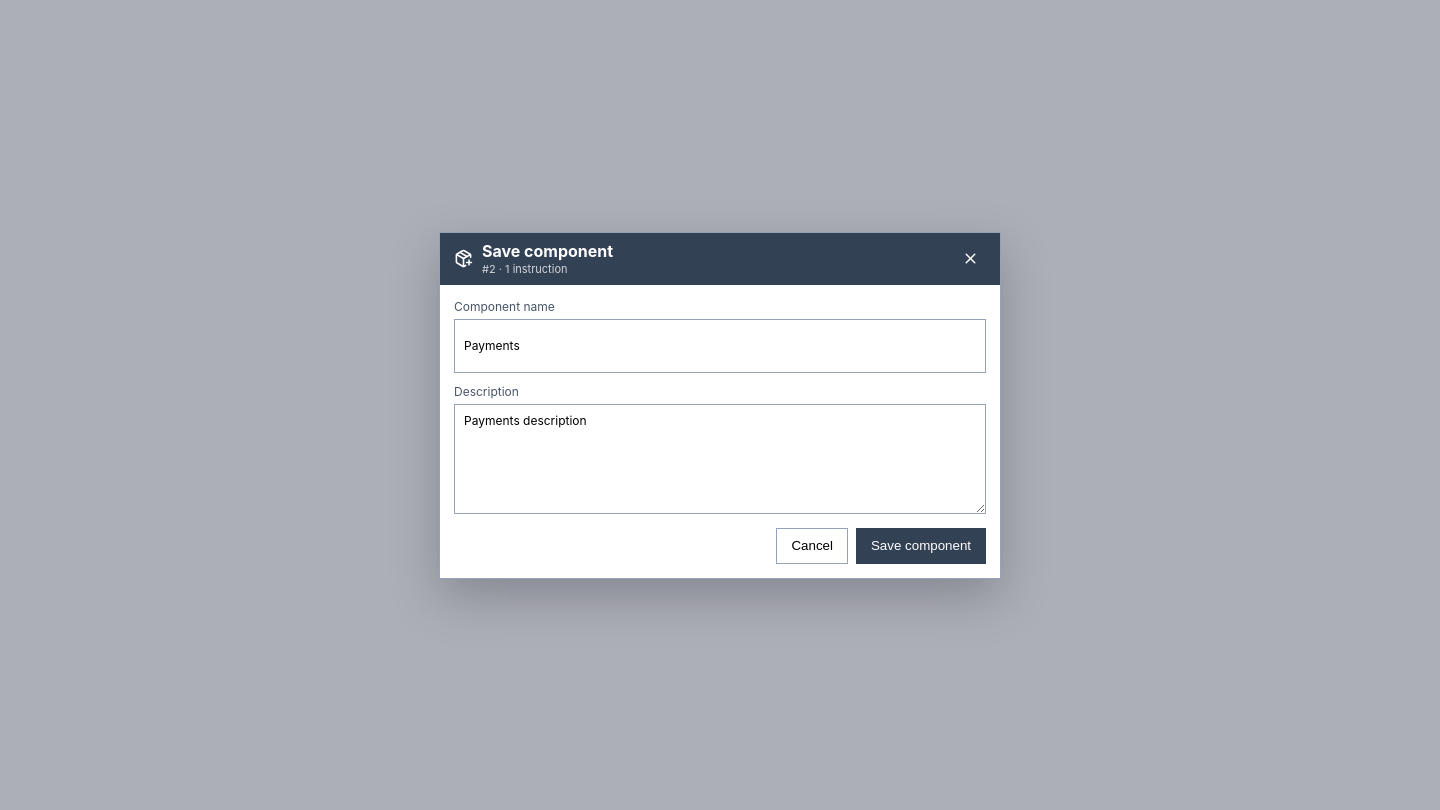
Scenario: requires name and description
Clear the field labelled "Component name": (720, 346) [454, 318, 986, 372]
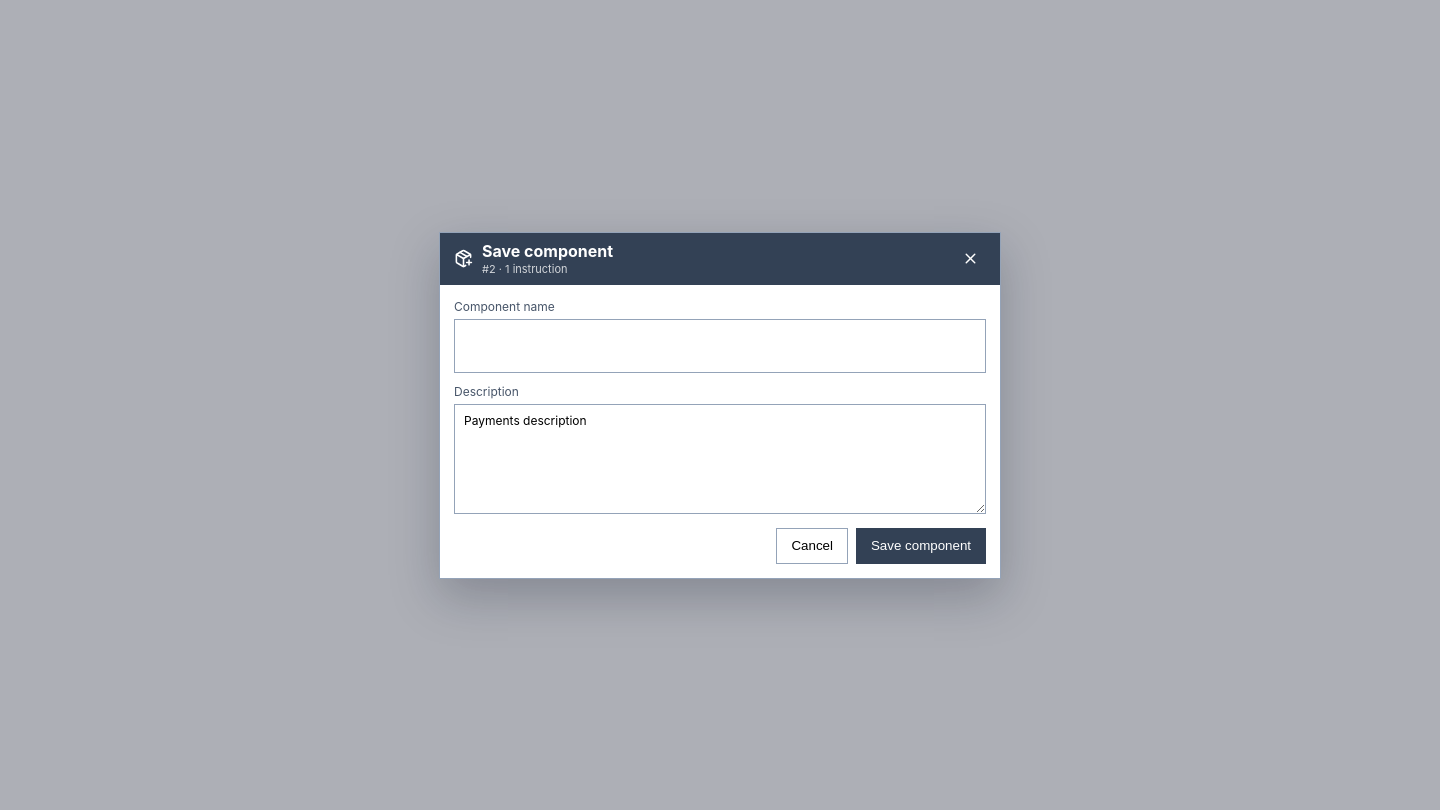
Click the button "Save component": (921, 546) [856, 528, 986, 564]
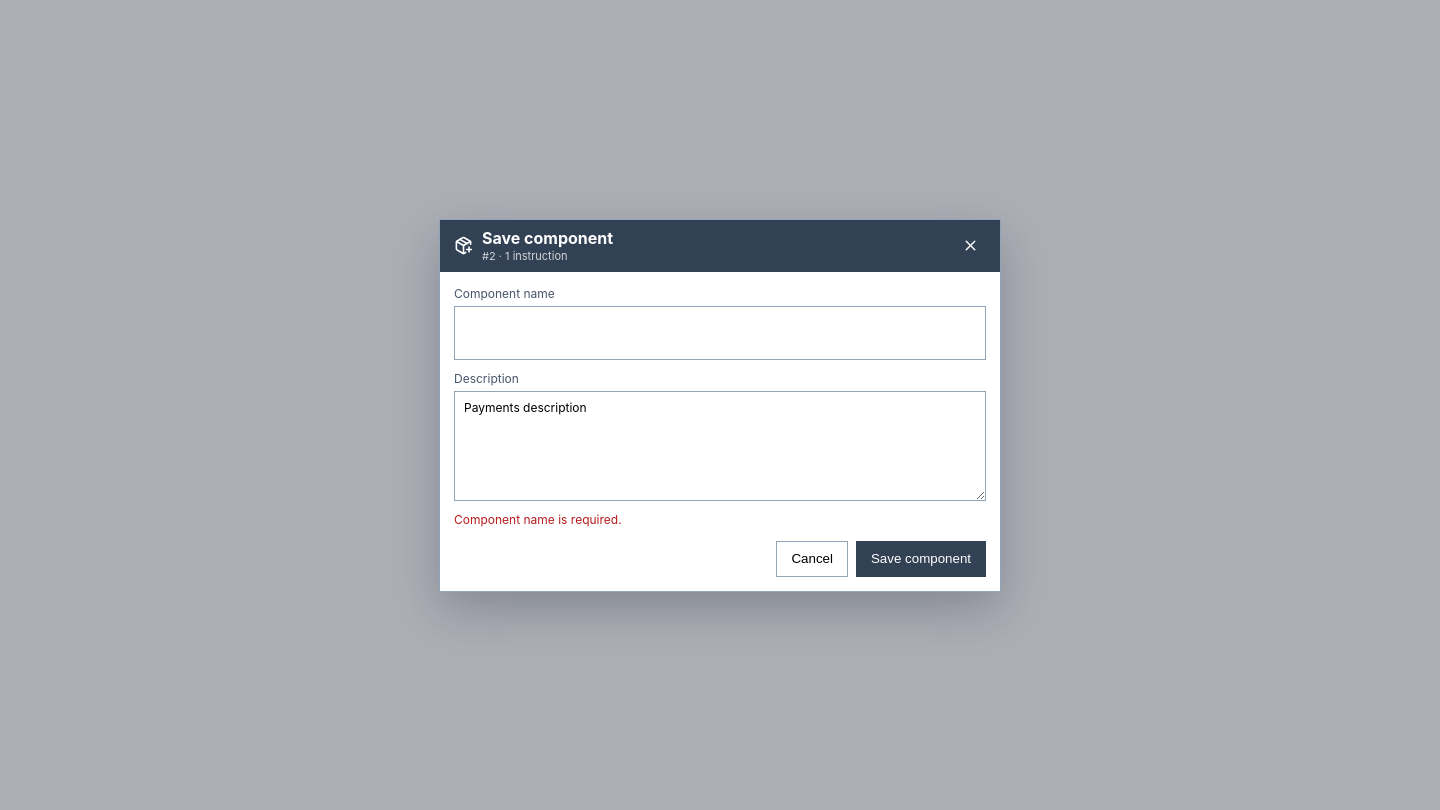
expect the text "Component name is required." is shown: met, box [454, 512, 622, 526]
